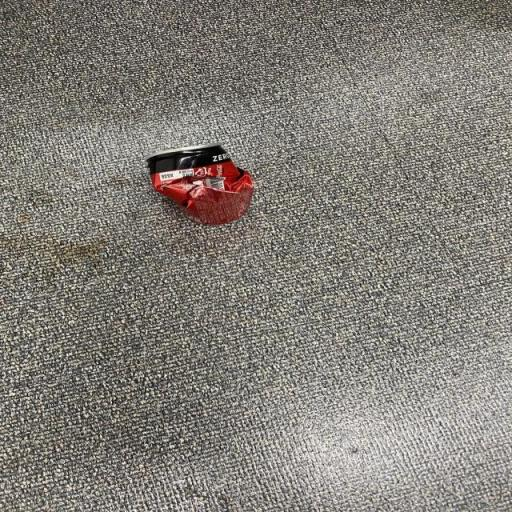metal: (137, 126, 286, 254)
